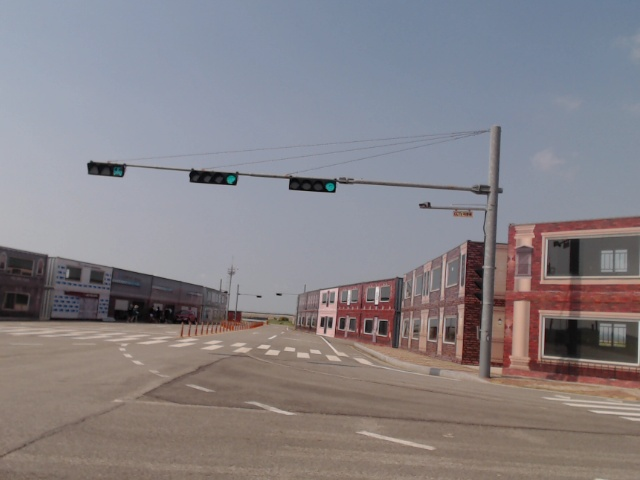straight_green_4: (290, 176, 337, 193), (190, 169, 236, 185)
